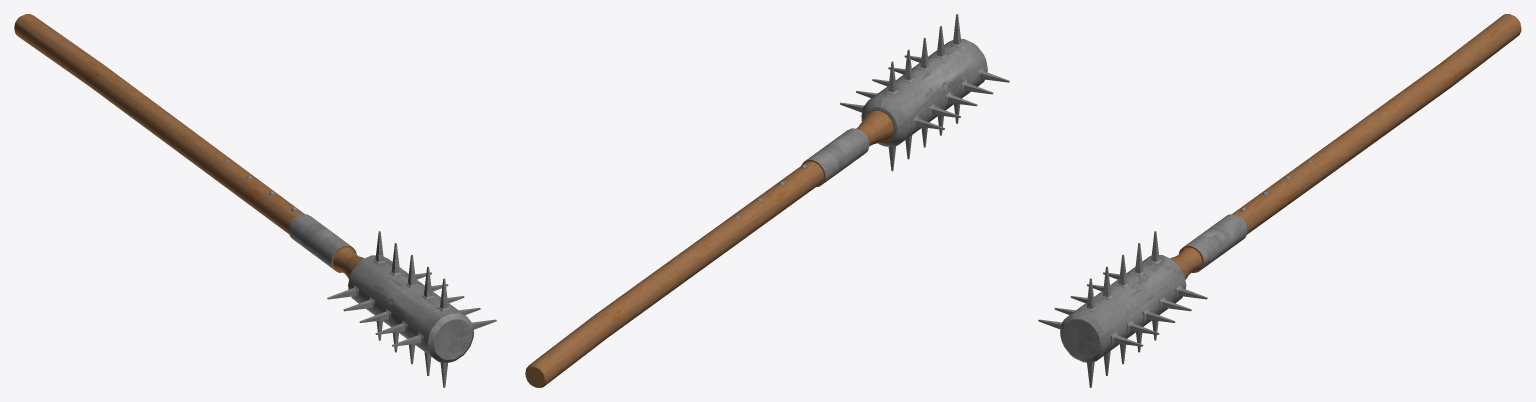
File: SpikedMace.fbx
3 views of the same model, side by side, from view 1: azimuth 30°, elevation 25°; view 2: azimuth 150°, elevation 25°; view 3: azimuth 330°, elevation 25° (orthographic).
Visible parts, largest first — view 1: Sphere.008; view 2: Sphere.008; view 3: Sphere.008.
Boxes of the visible parts, <box> form: Sphere.008: <box>14,14,496,387</box>; Sphere.008: <box>525,14,1009,387</box>; Sphere.008: <box>1038,14,1521,387</box>.
Bounding box in the file's own units: 13.68 × 13.68 × 97.94.
